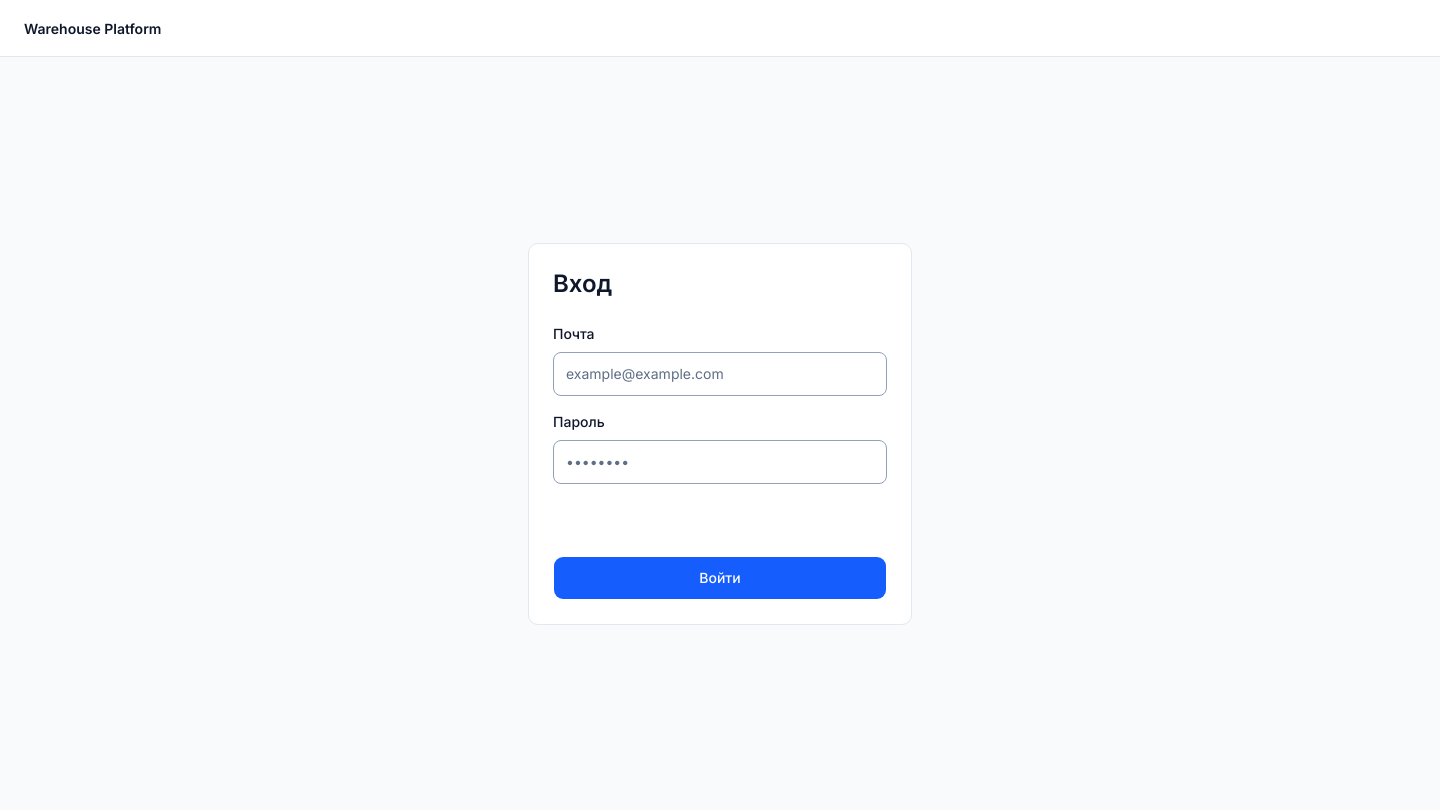
it: LoginPage › убирает ошибку формата почты после исправления адреса
The image size is (1440, 810).
Type "userexample.com" into the field labelled "Почта" at (720, 374), box [553,352,887,396]
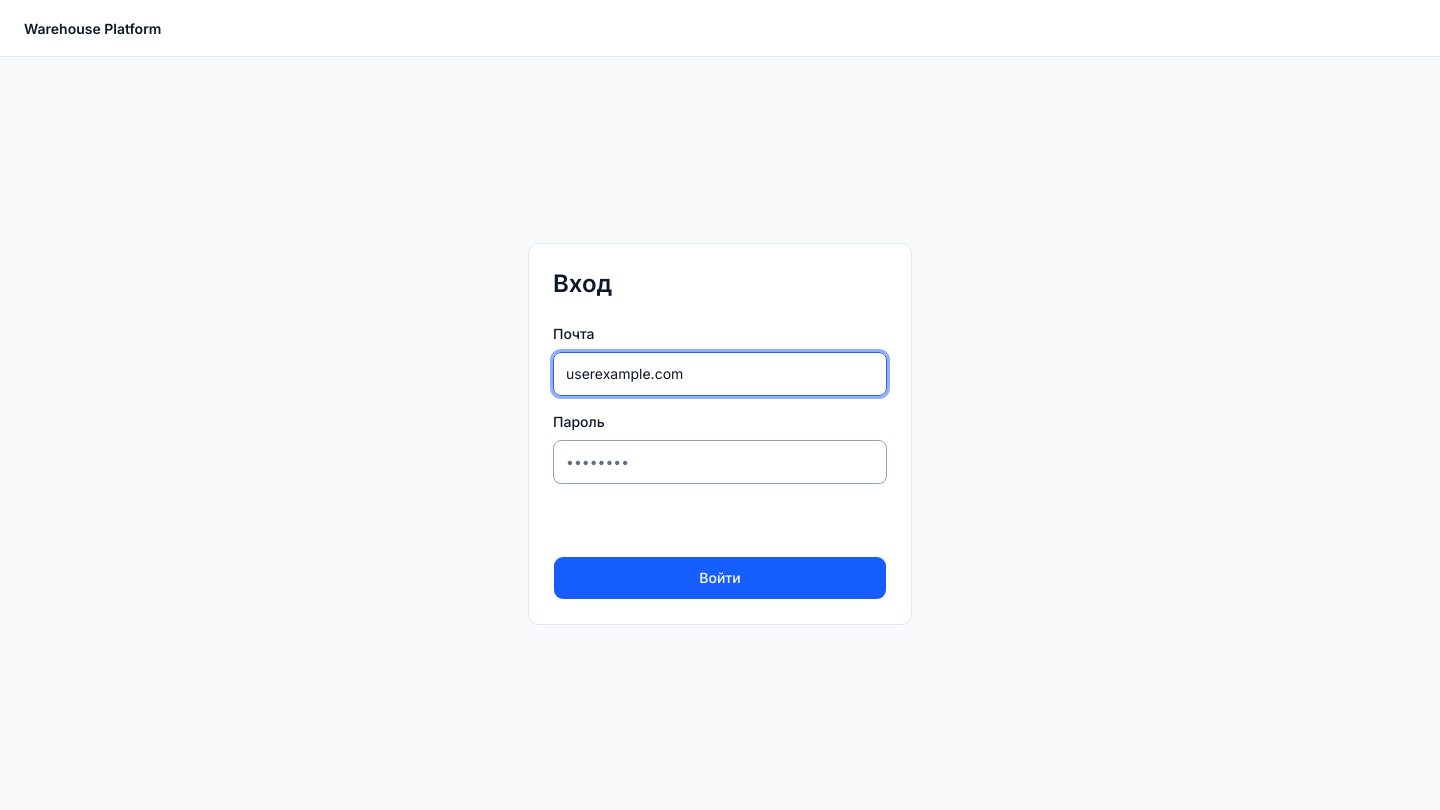
Type "secret" into the password field labelled "Пароль" at (720, 462), box [553,440,887,484]
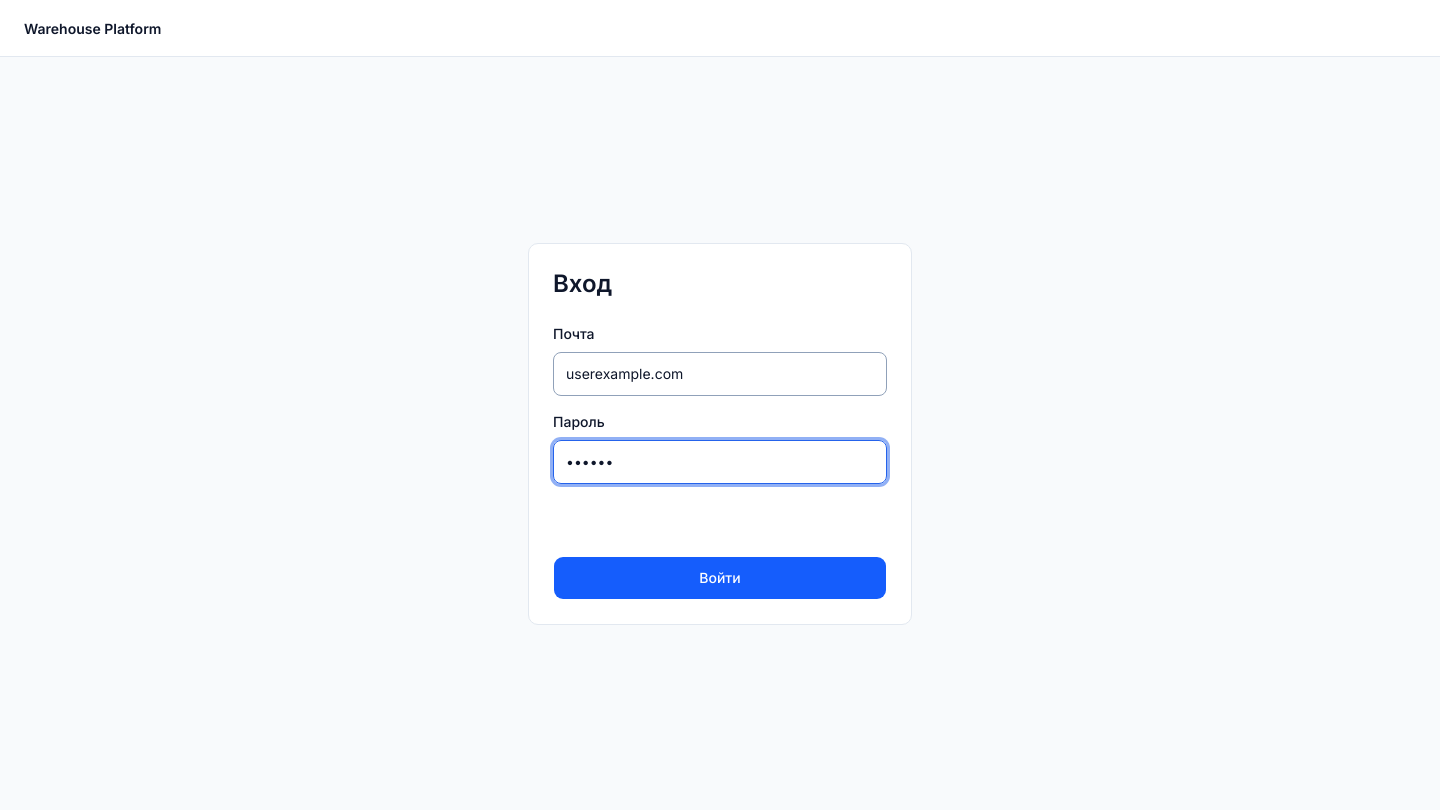
Click the button "Войти" at (720, 578), box [553,556,887,600]
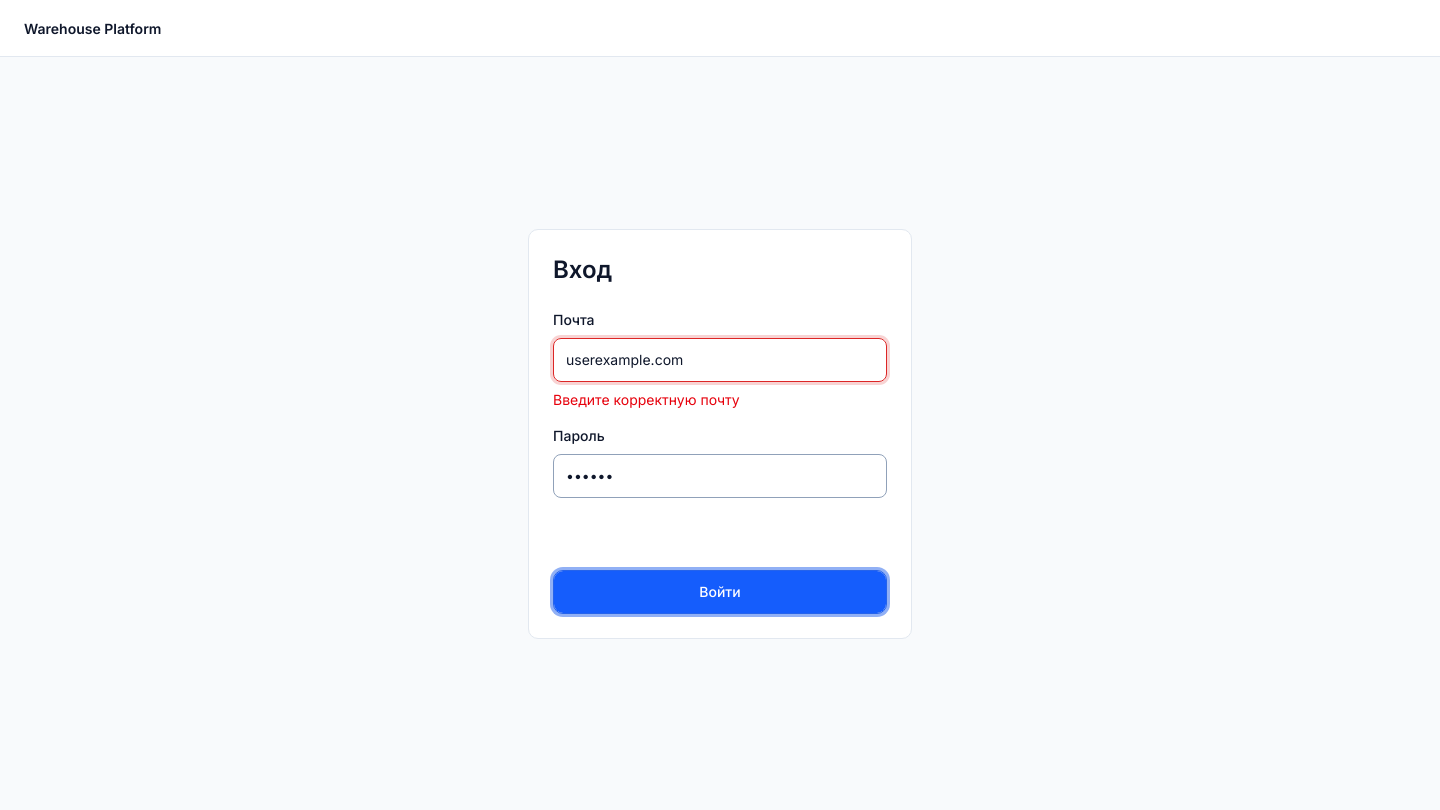
expect the field labelled "Почта" is marked as invalid: met
Replace the text in the field labelled "Почта" with "user@example.com" at (720, 360), box [553,338,887,382]
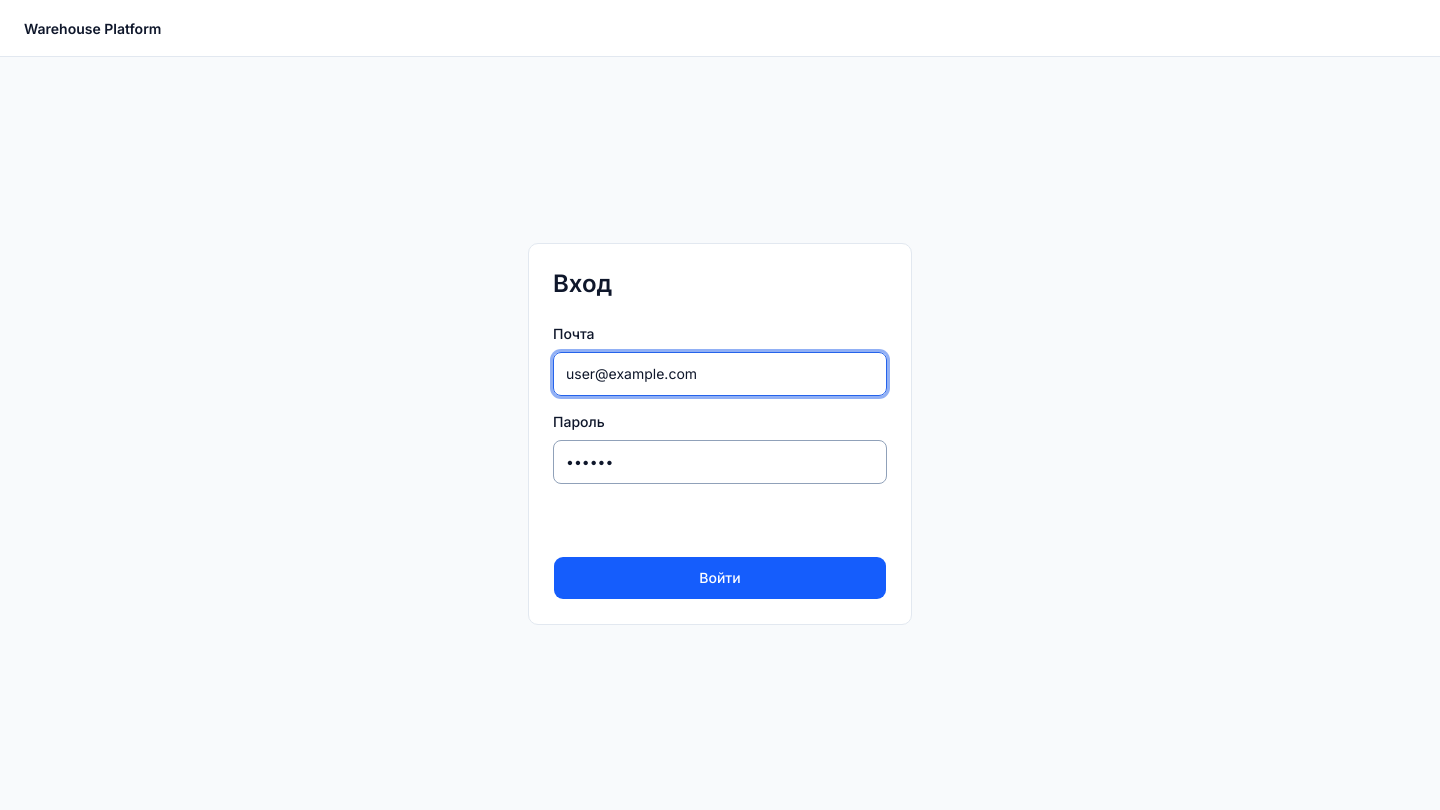
expect the field labelled "Почта" does not have attribute aria-invalid="true": met, box [553,352,887,396]
